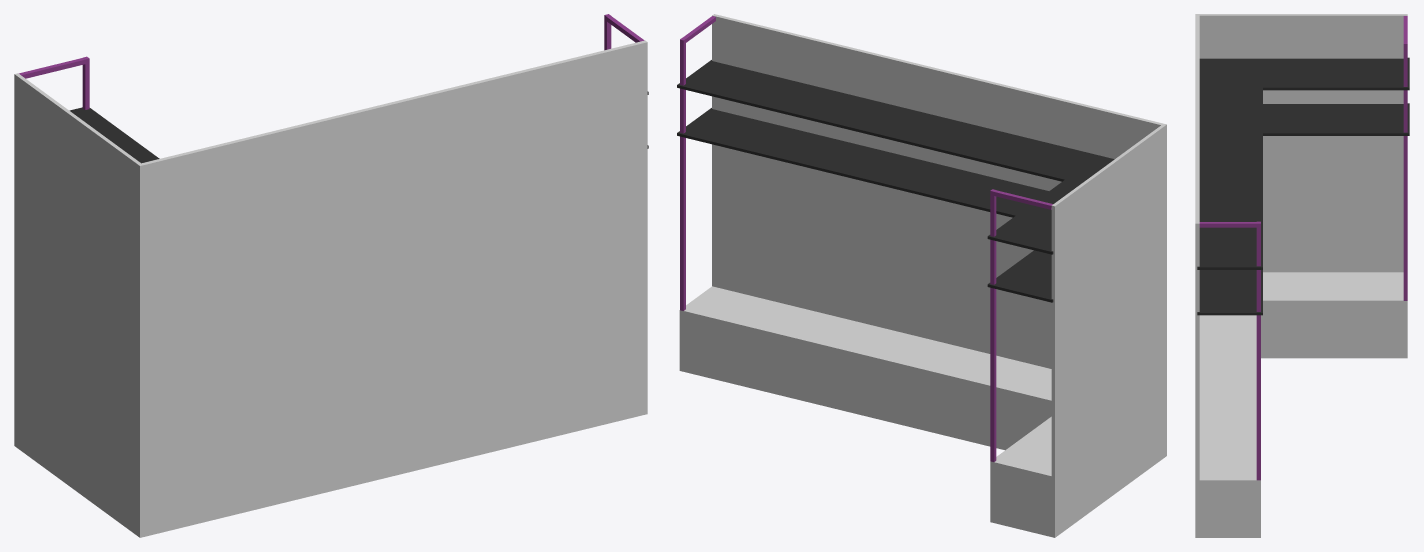
Rendered from meuble assise etageres.FBX.
3 renders of one model, left to right at view 1: azimuth 30°, elevation 25°; view 2: azimuth 150°, elevation 25°; view 3: azimuth 270°, elevation 25°, orthographic. The views are drawn at different scales.
Parts seen in each view (by area): view 1: meuble etagere assise, barre meuble etagre; view 2: meuble etagere assise, barre meuble etagre; view 3: meuble etagere assise, barre meuble etagre.
Part boxes in pixels (x1,y1,x2,y2): meuble etagere assise: [14, 40, 647, 537]; barre meuble etagre: [19, 14, 648, 163]; meuble etagere assise: [679, 14, 1166, 537]; barre meuble etagre: [677, 16, 1114, 461]; meuble etagere assise: [1195, 14, 1407, 537]; barre meuble etagre: [1197, 16, 1409, 480].
Size of the model in its own units: 351 by 245 by 151.
